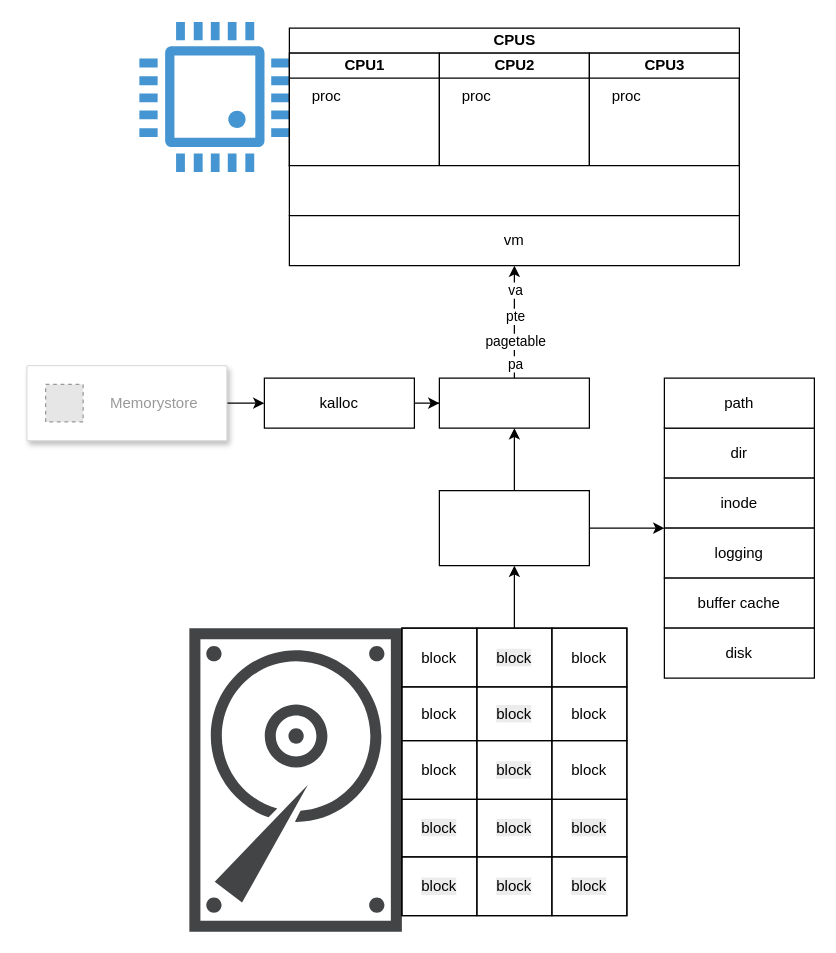
This 836x953 diagram has some shape labels left out. Grey dashed boxes stand in for pictures. Each missing label, with the centre of its shape:
"file system" belongs at (513,527).
"kmem" belongs at (513,402).
"schedule" belongs at (513,190).
